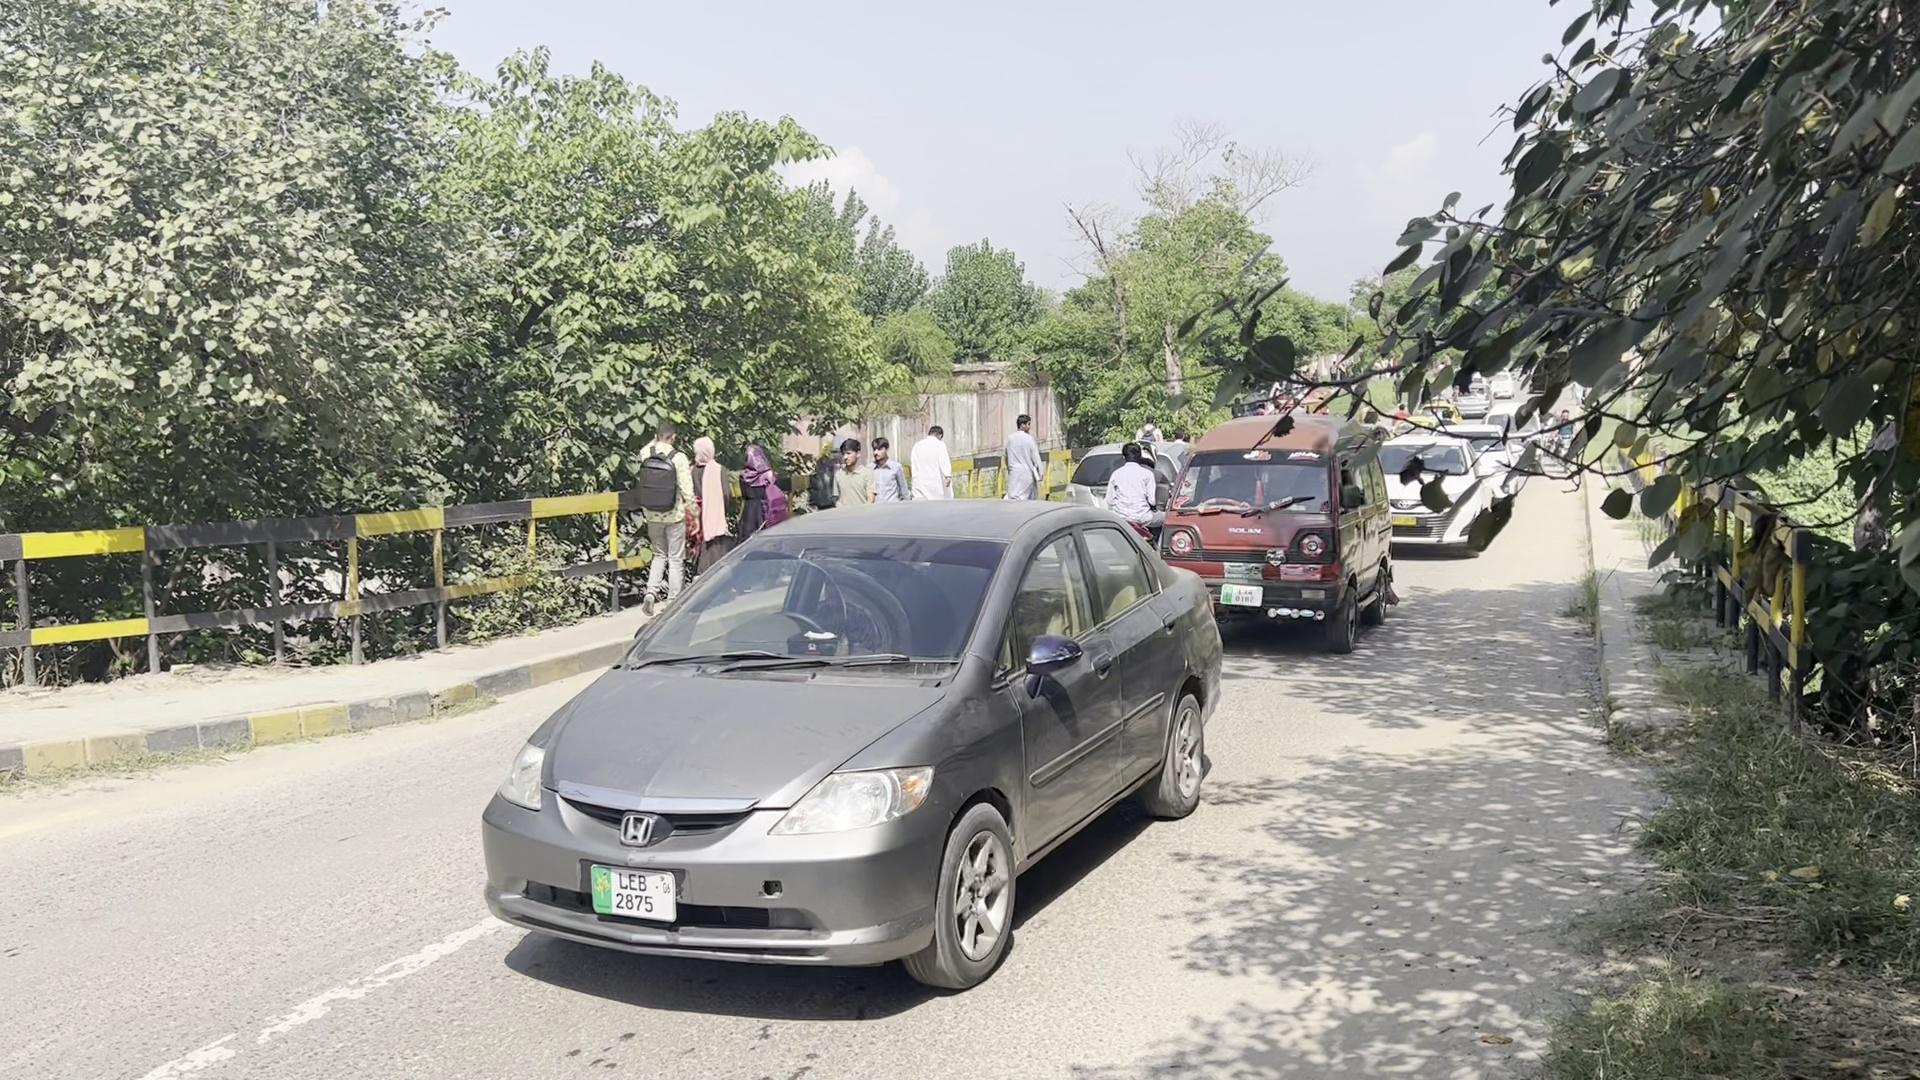windshield: (628, 533, 1010, 670), (1170, 444, 1335, 510)
